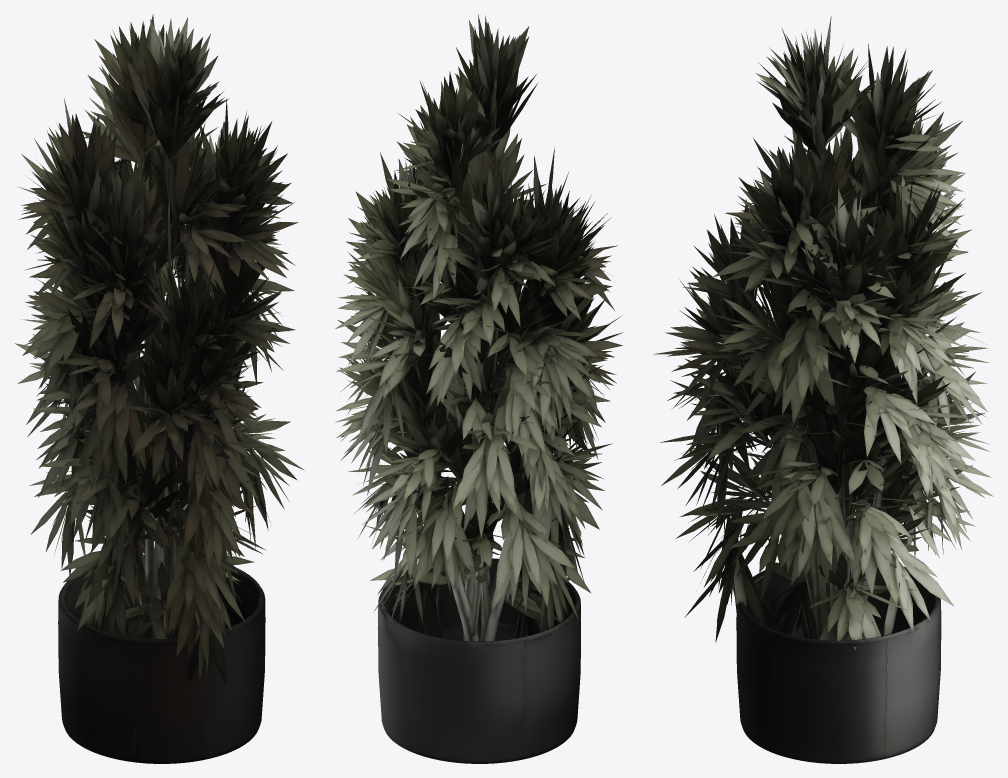
File: o3_pianta_interno.glb
3 renders of one model, left to right at view 1: azimuth 30°, elevation 25°; view 2: azimuth 150°, elevation 25°; view 3: azimuth 270°, elevation 25°, orthographic. The views are drawn at different scales.
Visible parts, largest first — view 1: sb_modello; view 2: sb_modello; view 3: sb_modello.
Part boxes in pixels (left/top/right/bottom): sb_modello: left=15, top=14, right=304, bottom=763; sb_modello: left=335, top=14, right=623, bottom=763; sb_modello: left=653, top=16, right=993, bottom=763.
Bounding box in the file's own units: 0.4487 × 1.24 × 0.5448.
1 material, 1 textured.
